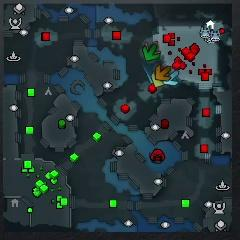x2: (151, 70, 166, 88)
x3: (163, 70, 181, 87)
x4: (142, 44, 159, 62)
x5: (155, 64, 170, 82)
